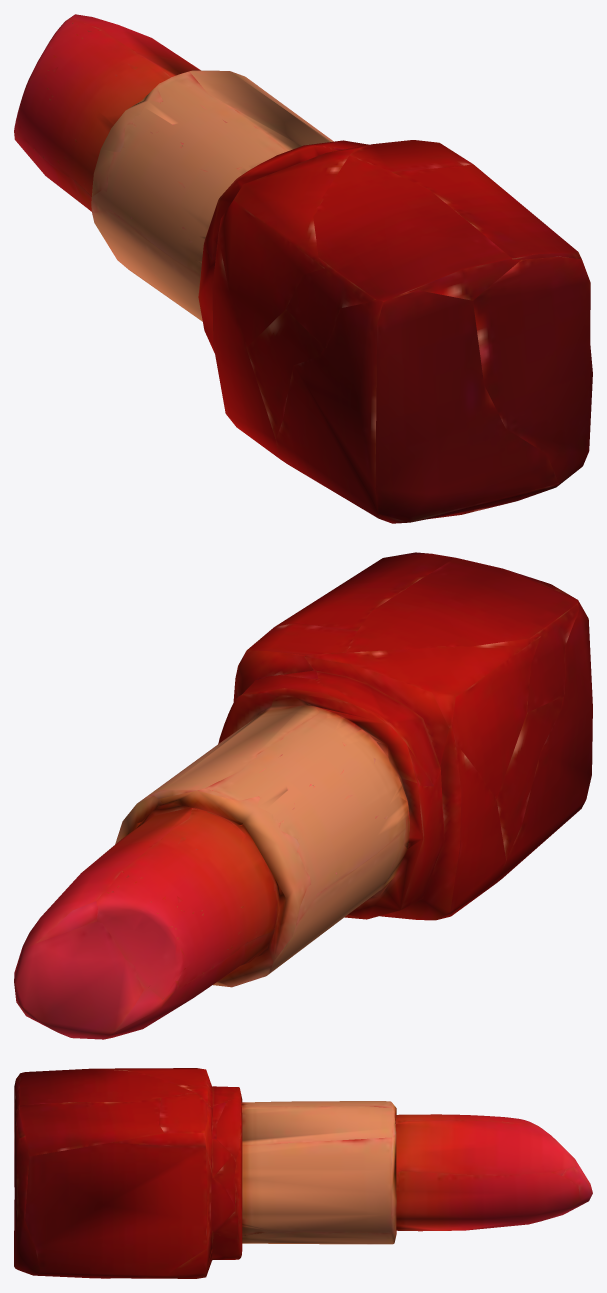
3 renders of one model, top to bottom at view 1: azimuth 30°, elevation 25°; view 2: azimuth 150°, elevation 25°; view 3: azimuth 270°, elevation 25°, orthographic. The views are drawn at different scales.
Parts seen in each view (by area): view 1: material; view 2: material; view 3: material.
Boxes of the visible parts, x1,y1,x2,y2 form: material: (14,14,592,523); material: (14,552,592,1039); material: (14,1068,592,1278).
Bounding box in the file's own units: 0.3108 × 0.3153 × 1.
Materials: 1 (1 with a texture image).
